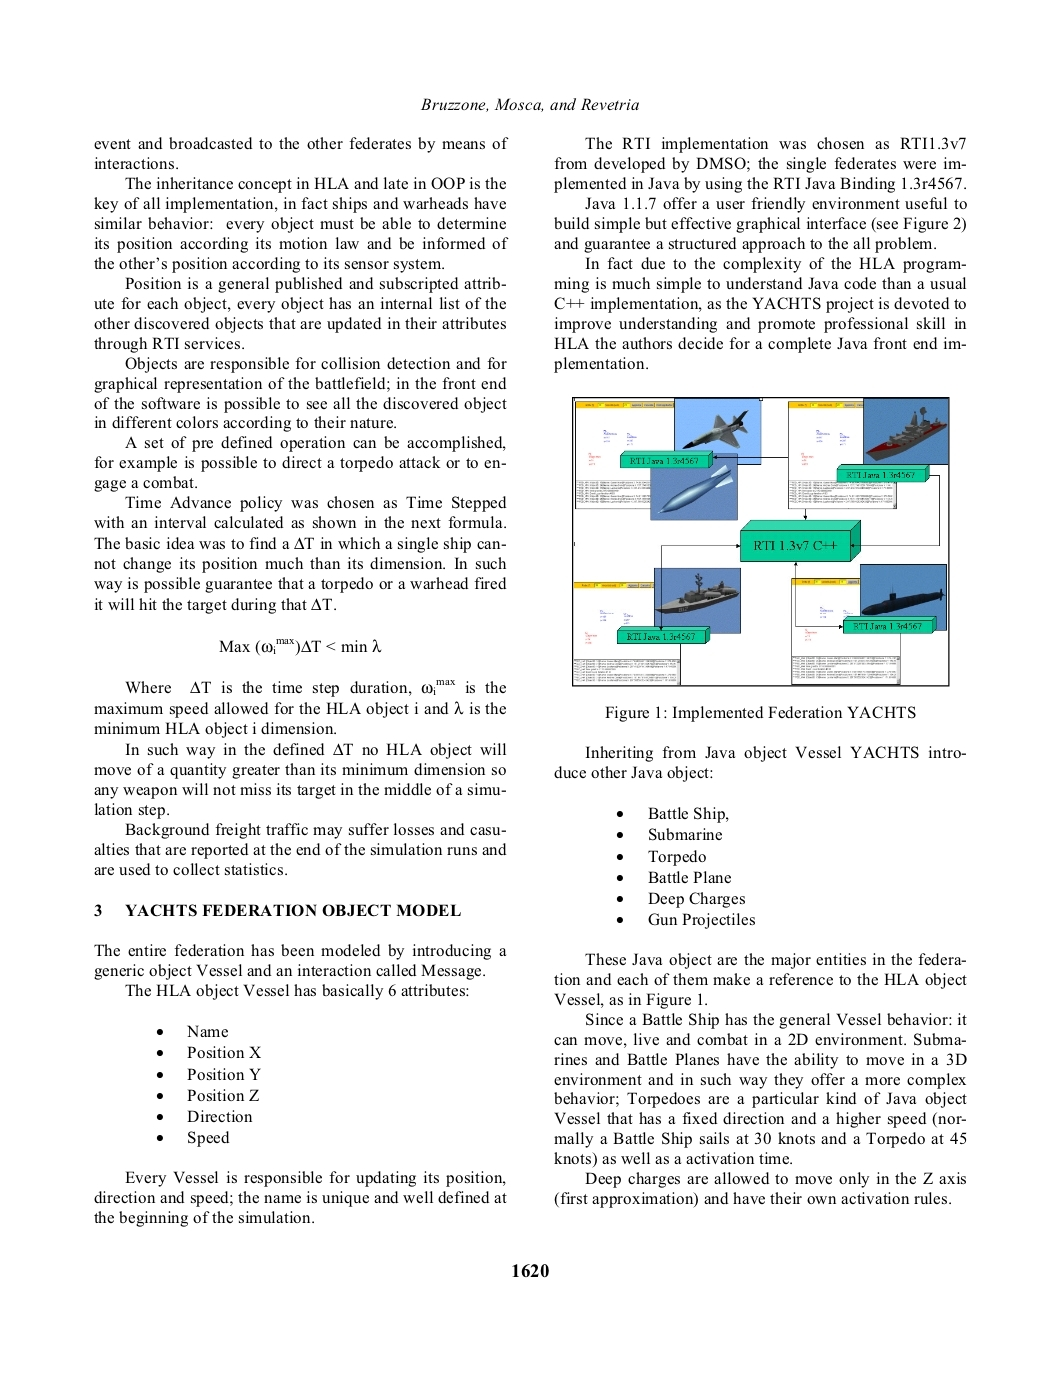figure: (572, 395, 950, 686)
formula: (220, 637, 381, 656)
